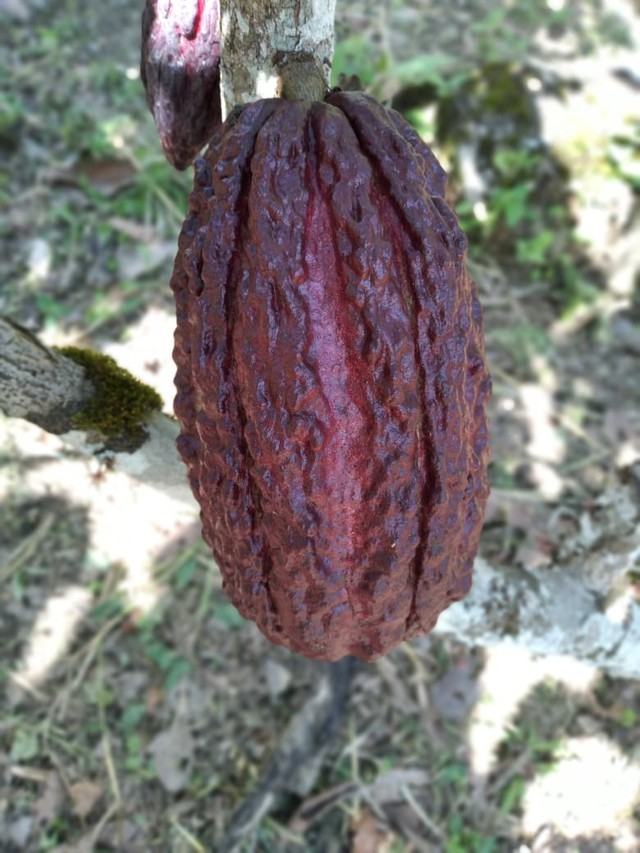Health: (165, 75, 496, 669)
